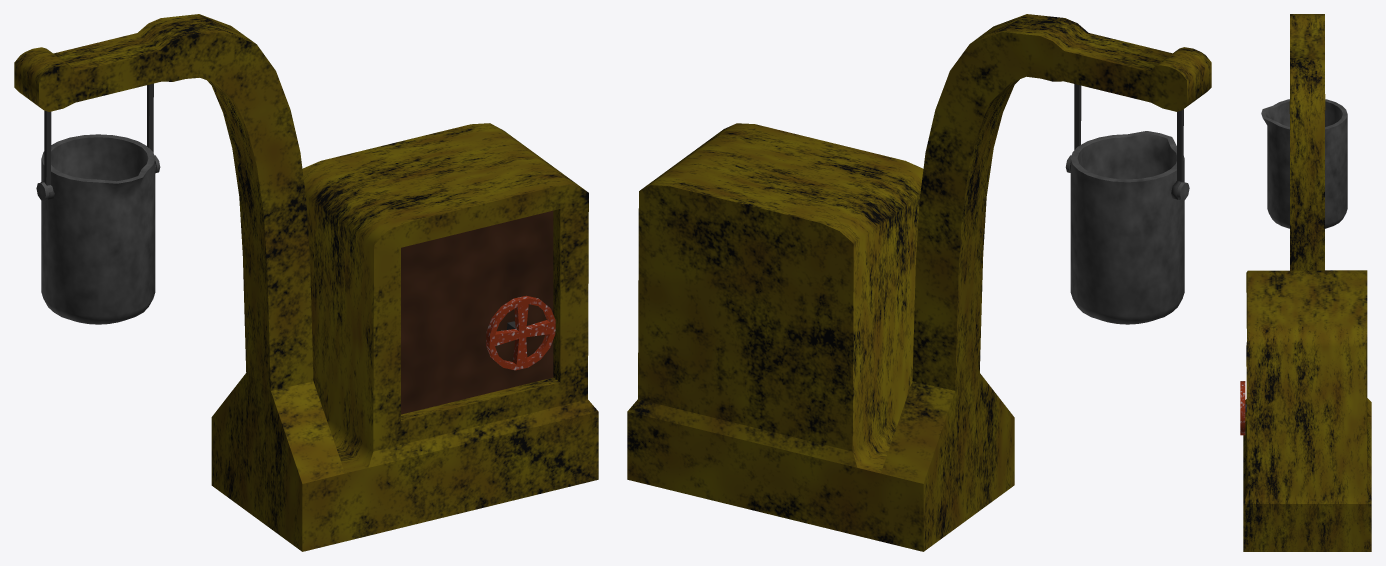
Rendered from cauldron.fbx.
The picture shows the model from 3 angles, left to right: view 1: azimuth 30°, elevation 25°; view 2: azimuth 150°, elevation 25°; view 3: azimuth 270°, elevation 25°; orthographic projection. The views are drawn at different scales.
Visible parts, largest first — view 1: machine, cauldron, valve, hanger; view 2: machine, cauldron, hanger; view 3: machine, cauldron, valve.
Boxes of the visible parts, x1,y1,x2,y2 form: machine: [14, 14, 598, 551]; cauldron: [36, 134, 160, 324]; valve: [486, 295, 555, 370]; hanger: [41, 83, 156, 199]; machine: [627, 14, 1211, 551]; cauldron: [1065, 131, 1189, 324]; hanger: [1069, 84, 1183, 199]; machine: [1243, 14, 1371, 551]; cauldron: [1261, 99, 1347, 228]; valve: [1240, 381, 1246, 435].
Size of the model in its own units: 6.36 by 5.92 by 1.95.
